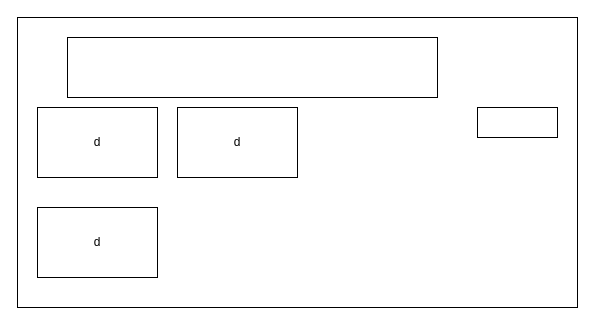
The diagram is 595 pixels wide and 325 high, and some of its shapes have lost their labels. Each missing label, with the centre of its shape:
add button: pixel 517 122
Y Library: pixel 252 67
